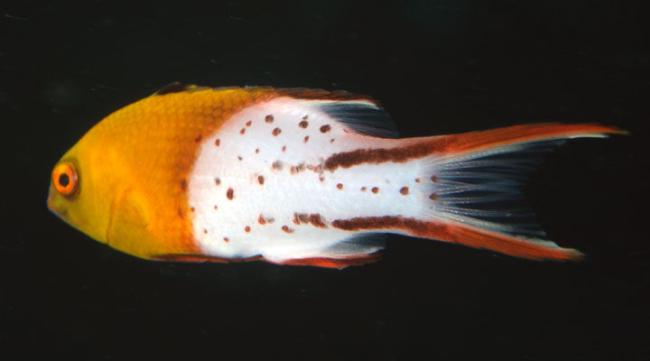fish: (47, 82, 625, 273)
